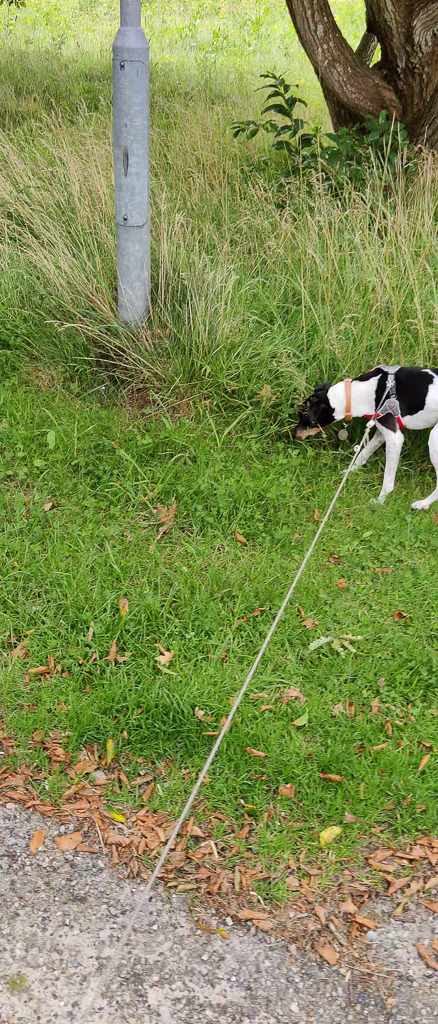Dog: (281, 353, 438, 520)
